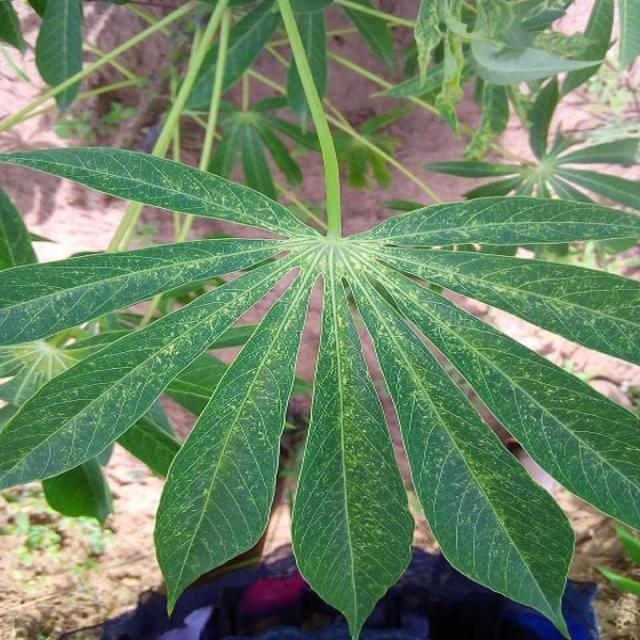cassava leaf: (0, 3, 638, 636), (290, 265, 416, 638)
